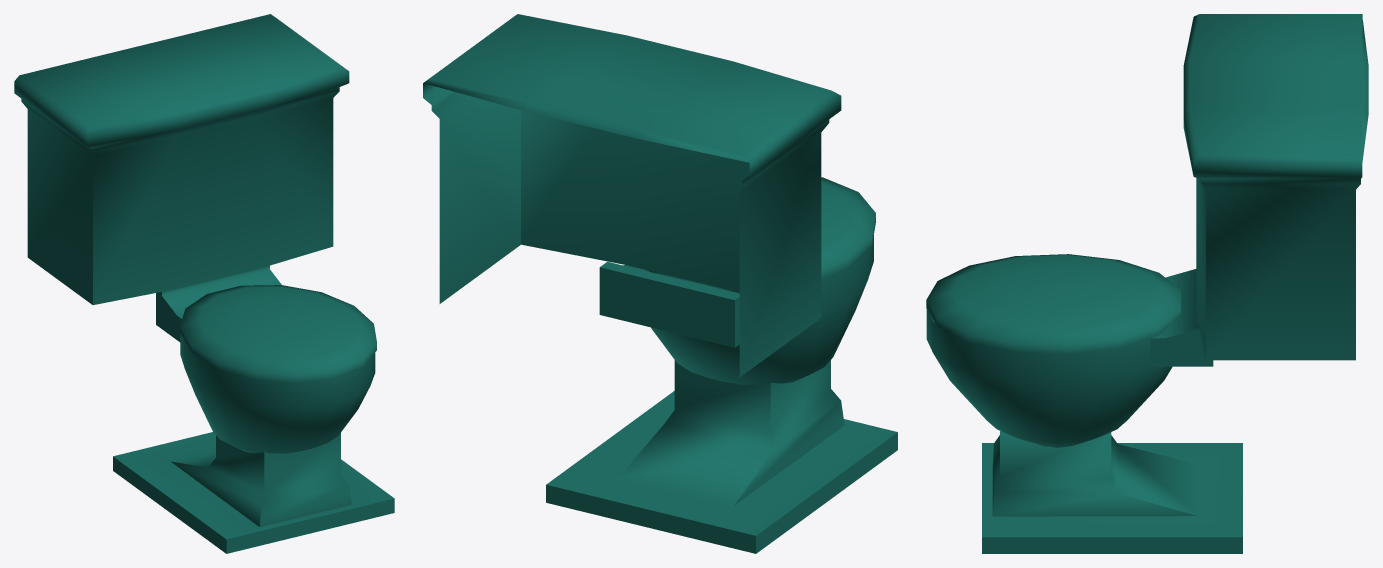
File: RE_RBathToilet.FBX
3 views of the same model, side by side, from view 1: azimuth 30°, elevation 25°; view 2: azimuth 150°, elevation 25°; view 3: azimuth 270°, elevation 25° (orthographic). The views are drawn at different scales.
Parts seen in each view (by area): view 1: RE_RBathToilet; view 2: RE_RBathToilet; view 3: RE_RBathToilet.
Boxes of the visible parts, x1,y1,x2,y2 form: RE_RBathToilet: (14,14,394,553); RE_RBathToilet: (423,14,897,553); RE_RBathToilet: (926,14,1368,553).
Bounding box in the file's own units: 48.9 × 65.67 × 62.31.
